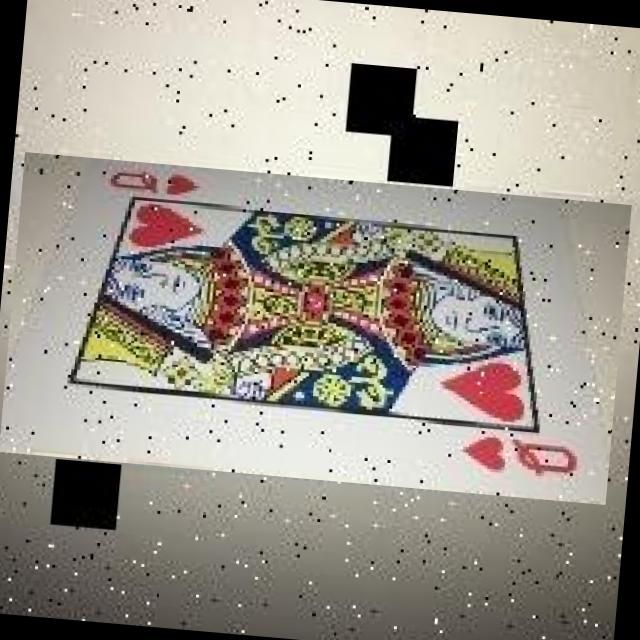Queen of hearts: (0, 157, 605, 503)
